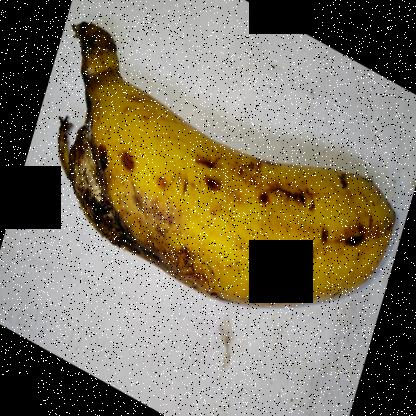ripe: (49, 7, 408, 320)
rotten: (60, 80, 151, 256)
